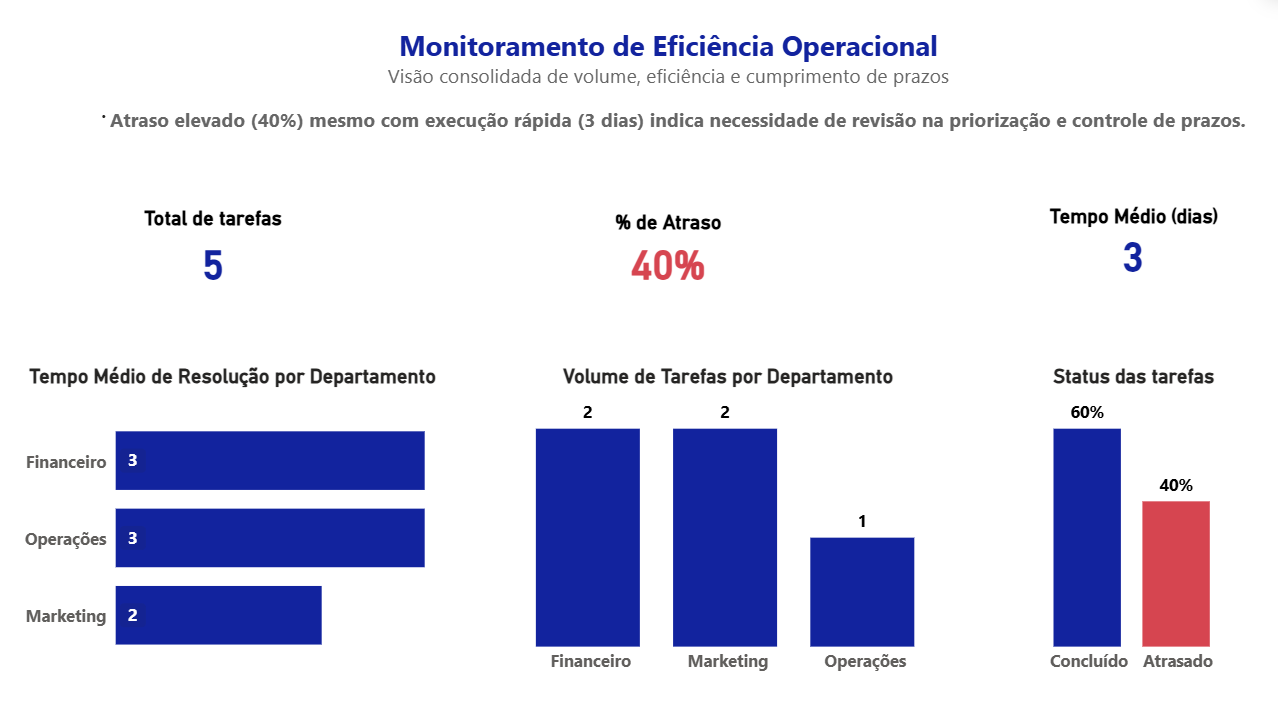

The page's visual inventory and layout, read from the dashboard file:
{"tool":"powerbi","page":{"name":"Página 1","canvas":[1280,720],"ordinal":0},"visuals":[{"type":"card","title":"Total de tarefas","fields":{"Values":["fato_pendencias.Total.Tarefas"]},"box":[116,209.1,196.9,82.4],"z":0},{"type":"card","title":"Tempo Médio (dias)","fields":{"Values":["fato_pendencias.Tempo Médio Correto"]},"box":[1016.3,206,174,71.7],"z":1000},{"type":"card","title":"% de Atraso","fields":{"Values":["fato_pendencias.% Atraso"]},"box":[553.9,212.1,199.9,76.3],"z":2000},{"type":"clusteredColumnChart","title":"Volume de Tarefas por Departamento","fields":{"Category":["fato_pendencias.departamento"],"Y":["fato_pendencias.Total Tarefas"]},"box":[468.5,360.1,486.8,308.3],"z":3000},{"type":"clusteredBarChart","title":"Tempo Médio de Resolução por Departamento","fields":{"Category":["fato_pendencias.departamento"],"Y":["fato_pendencias.Tempo Médio Dpto"]},"box":[25.9,360.1,413.5,308.3],"z":4000},{"type":"columnChart","title":"Status das tarefas","fields":{"Category":["fato_pendencias.status"],"Y":["CountNonNull(fato_pendencias.id)"]},"box":[943.1,360.1,318.9,308.3],"z":5000},{"type":"textbox","box":[74.8,29,1158.2,132.8],"z":6000}]}

Visuals, with their boxes in screenshot pixels (x1, y1, x2, y2), scaled from the page's 1280x720 canvas onto the 1278x708 screenshot:
"Total de tarefas" card: 116,206,312,287
"Tempo Médio (dias)" card: 1015,203,1188,273
"% de Atraso" card: 553,209,753,284
"Volume de Tarefas por Departamento" clusteredColumnChart: 468,354,954,657
"Tempo Médio de Resolução por Departamento" clusteredBarChart: 26,354,439,657
"Status das tarefas" columnChart: 942,354,1260,657
textbox: 75,29,1231,159
